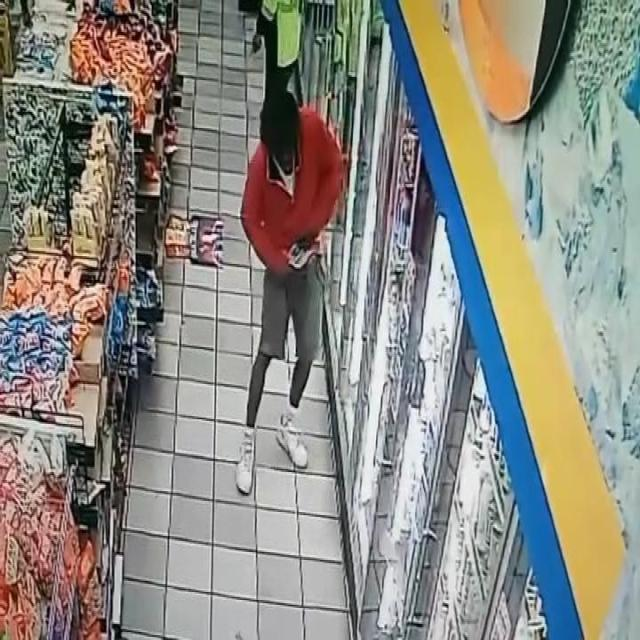Shoplifting: (214, 74, 344, 540)
